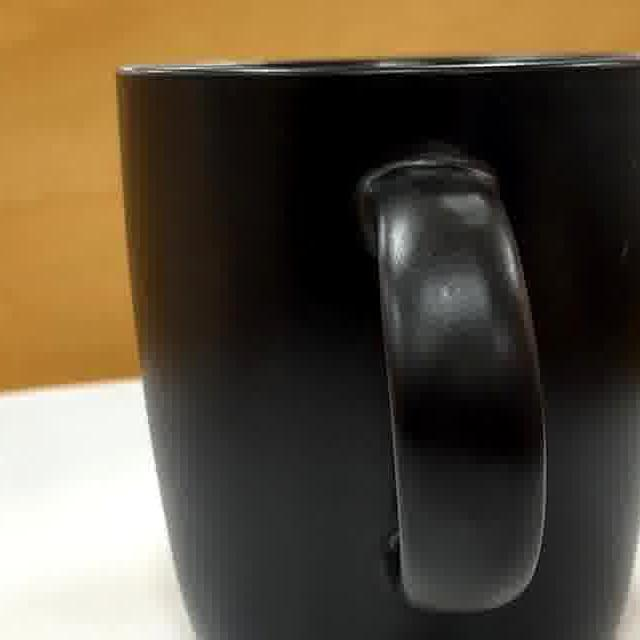cup: (123, 61, 640, 640)
